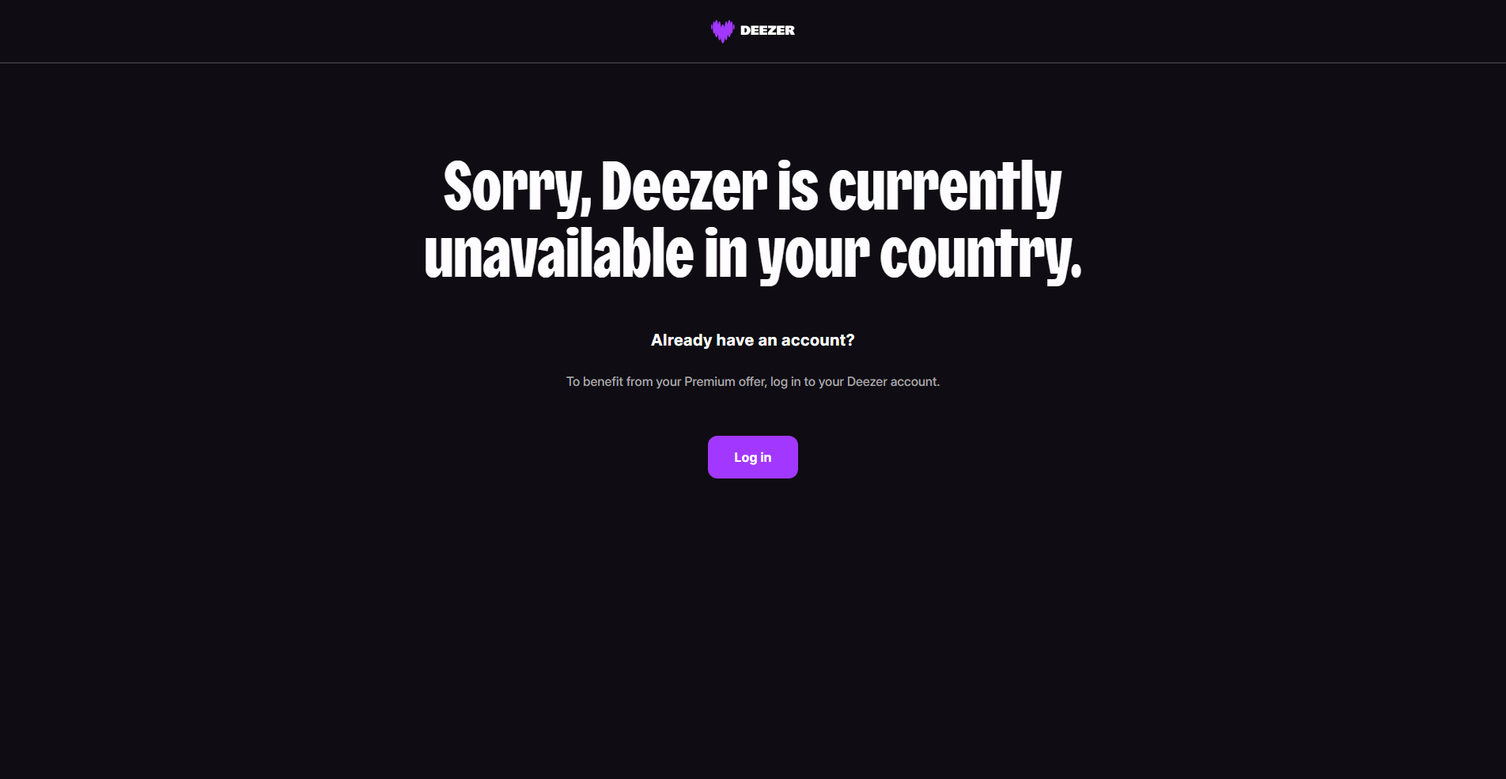button: (708, 436, 798, 478)
link: (711, 19, 795, 43)
